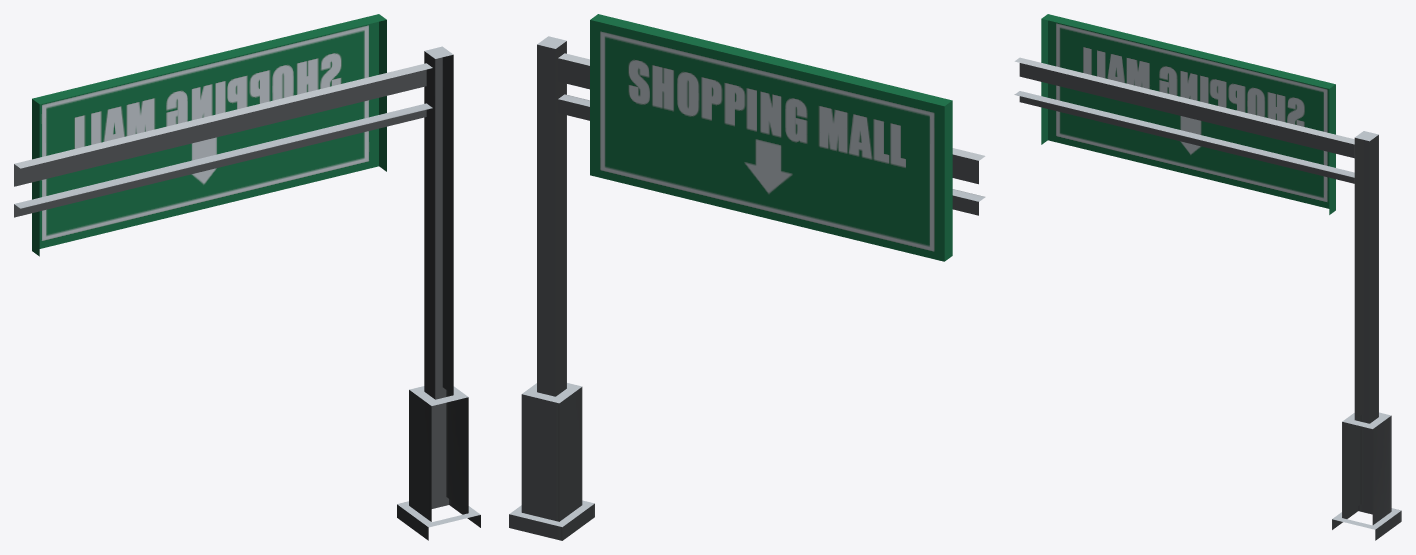
Rendered from Prop_Districtsign_10.fbx.
3 views of the same model, side by side, from view 1: azimuth 30°, elevation 25°; view 2: azimuth 150°, elevation 25°; view 3: azimuth 330°, elevation 25° (orthographic). The views are drawn at different scales.
Parts seen in each view (by area): view 1: road_sign5; view 2: road_sign5; view 3: road_sign5.
Boxes of the visible parts, box(x1,y1,x2,y2) form: road_sign5: box(14, 14, 480, 540); road_sign5: box(509, 14, 985, 540); road_sign5: box(1014, 14, 1401, 540).
Size of the model in its own units: 9.01 by 9.86 by 1.11.
